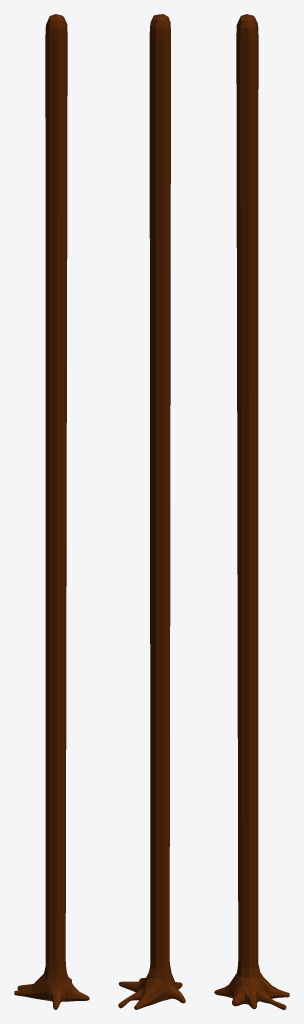
The model's file is big tree.fbx.
The picture shows the model from 3 angles, left to right: view 1: azimuth 90°, elevation 25°; view 2: azimuth 150°, elevation 25°; view 3: azimuth 270°, elevation 25°; orthographic projection.
Parts seen in each view (by area): view 1: Cube; view 2: Cube; view 3: Cube.
Boxes of the visible parts, <box> form: Cube: <box>14,14,89,1009</box>; Cube: <box>118,14,185,1009</box>; Cube: <box>214,14,289,1009</box>.
Size of the model in its own units: 837 by 12411 by 863.
